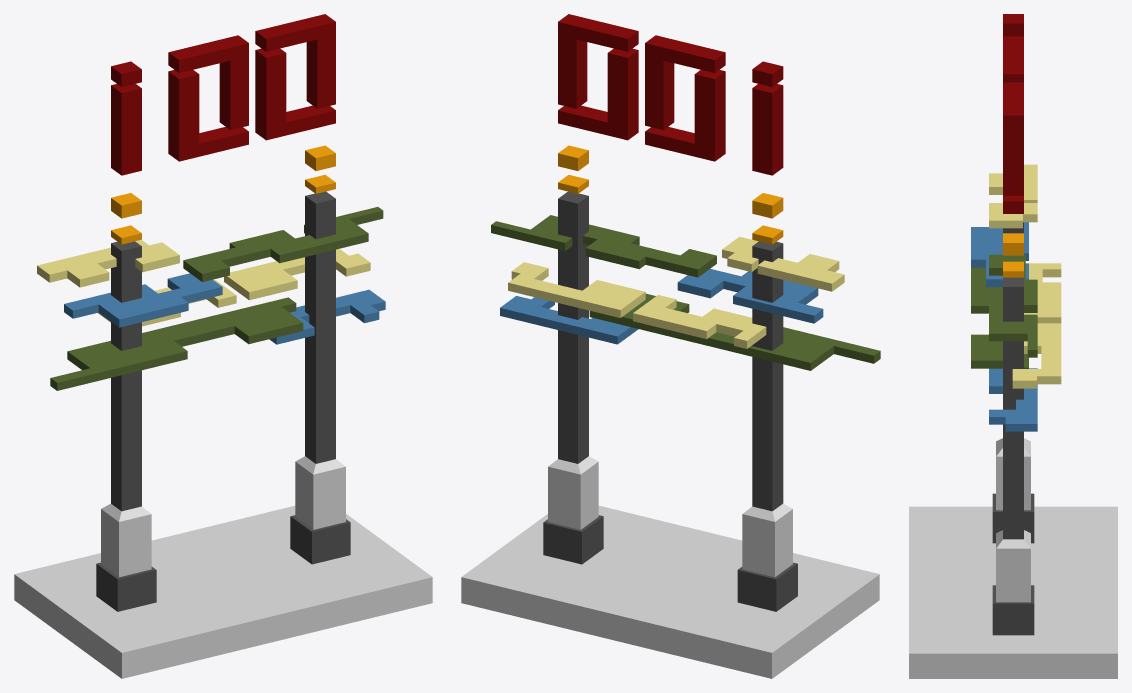
The picture shows the model from 3 angles, left to right: view 1: azimuth 30°, elevation 25°; view 2: azimuth 150°, elevation 25°; view 3: azimuth 270°, elevation 25°; orthographic projection. The views are drawn at different scales.
Parts seen in each view (by area): view 1: Group1, Group3, Group2, Group4, Group15, Group16, Group7, Group6, Group5, Group14, Group9, Group8 (+2 smaller); view 2: Group1, Group2, Group3, Group16, Group15, Group5, Group7, Group4, Group6, Group14, Group9, Group8 (+2 smaller); view 3: Group1, Group3, Group5, Group16, Group7, Group4, Group2, Group9, Group8, Group6, Group15, Group14 (+2 smaller).
Boxes of the visible parts, box(x1,y1,x2,y2) form: Group1: box(14, 505, 432, 678); Group3: box(290, 191, 350, 564); Group2: box(96, 241, 156, 611); Group4: box(50, 297, 303, 390); Group15: box(168, 35, 248, 161); Group16: box(255, 14, 335, 140); Group7: box(183, 207, 383, 281); Group6: box(64, 273, 222, 327); Group5: box(98, 248, 370, 326); Group14: box(111, 61, 141, 175); Group9: box(37, 240, 179, 287); Group8: box(269, 289, 385, 344); Group1: box(461, 505, 879, 678); Group2: box(737, 241, 797, 611); Group3: box(543, 191, 603, 564); Group16: box(558, 14, 638, 140); Group15: box(645, 35, 725, 161); Group5: box(508, 262, 766, 348); Group7: box(491, 215, 716, 277); Group4: box(589, 293, 880, 370); Group6: box(677, 268, 823, 323); Group14: box(752, 61, 783, 175); Group9: box(722, 236, 844, 291); Group8: box(500, 296, 638, 344); Group1: box(909, 506, 1117, 678); Group3: box(992, 277, 1034, 635); Group5: box(1012, 263, 1061, 388); Group16: box(1003, 82, 1023, 213); Group7: box(989, 254, 1037, 357); Group4: box(971, 263, 1028, 368); Group2: box(992, 222, 1034, 543); Group9: box(989, 164, 1037, 228); Group8: box(989, 368, 1037, 431); Group6: box(971, 222, 1028, 287); Group15: box(1003, 41, 1023, 82); Group14: box(1003, 14, 1023, 41).
Bounding box in the file's own units: 5.71 × 8.57 × 3.
